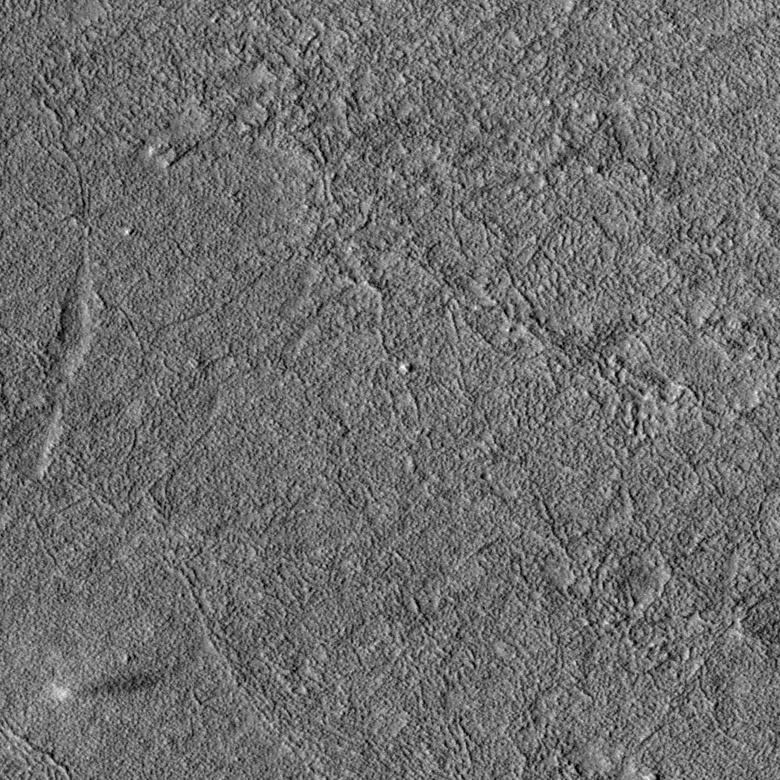dust_devil: (48, 664, 166, 704)
